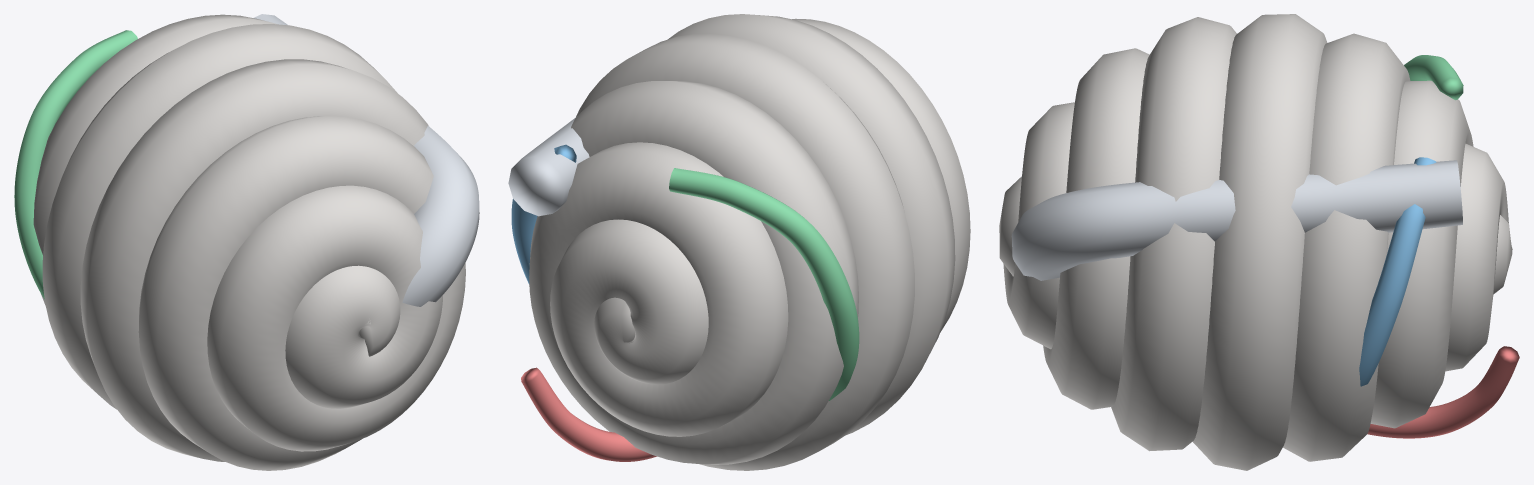
Rendered from heart_tubes.glb.
3 views of the same model, side by side, from view 1: azimuth 30°, elevation 25°; view 2: azimuth 150°, elevation 25°; view 3: azimuth 270°, elevation 25° (orthographic). The views are drawn at different scales.
Parts seen in each view (by area): view 1: HEART, AORTA, RCA; view 2: HEART, RCA, AORTA, LAD, LCX; view 3: HEART, AORTA, LCX, LAD, RCA.
Part boxes in pixels (x1=…): HEART: x1=33, y1=14, x2=465, y2=470; AORTA: x1=253, y1=14, x2=479, y2=306; RCA: x1=14, y1=30, x2=137, y2=299; HEART: x1=529, y1=14, x2=970, y2=470; RCA: x1=669, y1=168, x2=859, y2=400; AORTA: x1=508, y1=116, x2=589, y2=216; LAD: x1=521, y1=367, x2=656, y2=461; LCX: x1=511, y1=144, x2=576, y2=284; HEART: x1=999, y1=14, x2=1512, y2=470; AORTA: x1=1011, y1=160, x2=1462, y2=280; LCX: x1=1359, y1=157, x2=1436, y2=386; LAD: x1=1367, y1=346, x2=1519, y2=438; RCA: x1=1404, y1=55, x2=1463, y2=100.
Size of the model in its own units: 0.105 by 0.1131 by 0.127.
